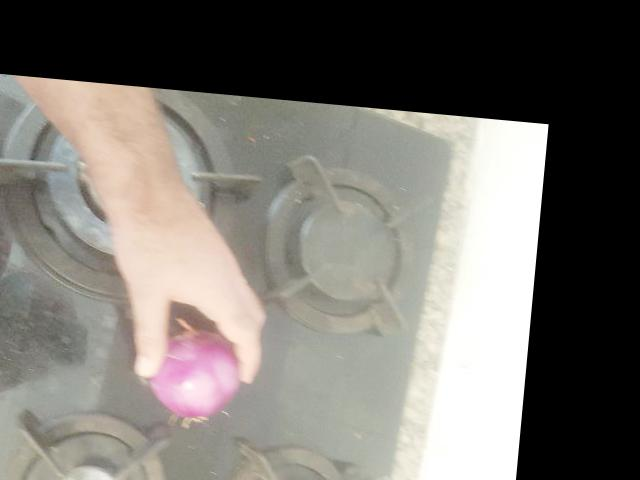onion: (140, 316, 245, 418)
